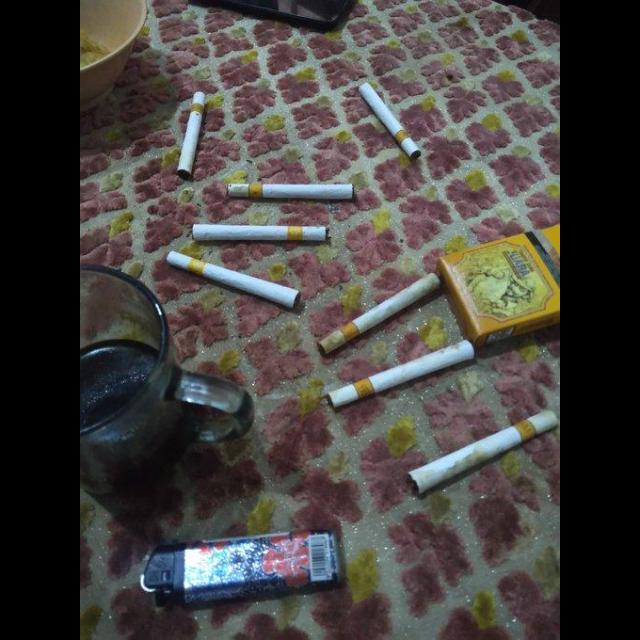rokok: (404, 411, 560, 497), (322, 336, 480, 412), (316, 269, 439, 361), (166, 252, 302, 314), (358, 78, 424, 160), (192, 220, 326, 248), (228, 178, 356, 206), (178, 90, 206, 178)
